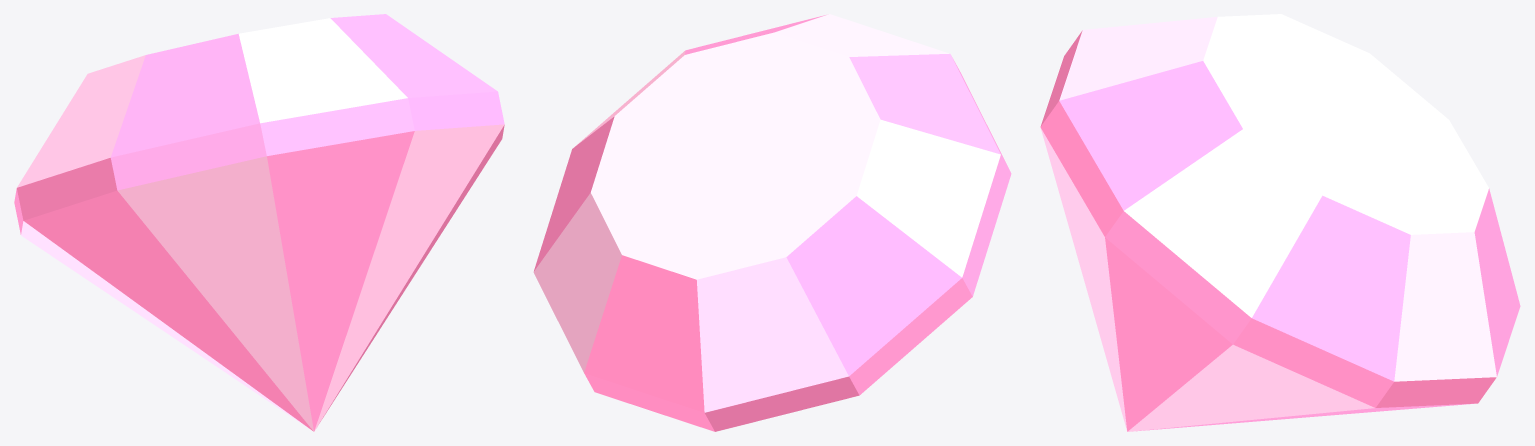
The model's file is cristal-rosa.glb.
3 renders of one model, left to right at view 1: azimuth 30°, elevation 25°; view 2: azimuth 150°, elevation 25°; view 3: azimuth 270°, elevation 25°, orthographic. The views are drawn at different scales.
Visible parts, largest first — view 1: cristal-rosa; view 2: cristal-rosa; view 3: cristal-rosa.
Boxes of the visible parts, x1=… form: cristal-rosa: x1=14, y1=14, x2=504, y2=431; cristal-rosa: x1=533, y1=14, x2=1011, y2=431; cristal-rosa: x1=1040, y1=14, x2=1520, y2=431.
Size of the model in its own units: 0.0915 by 0.0737 by 0.0806.
